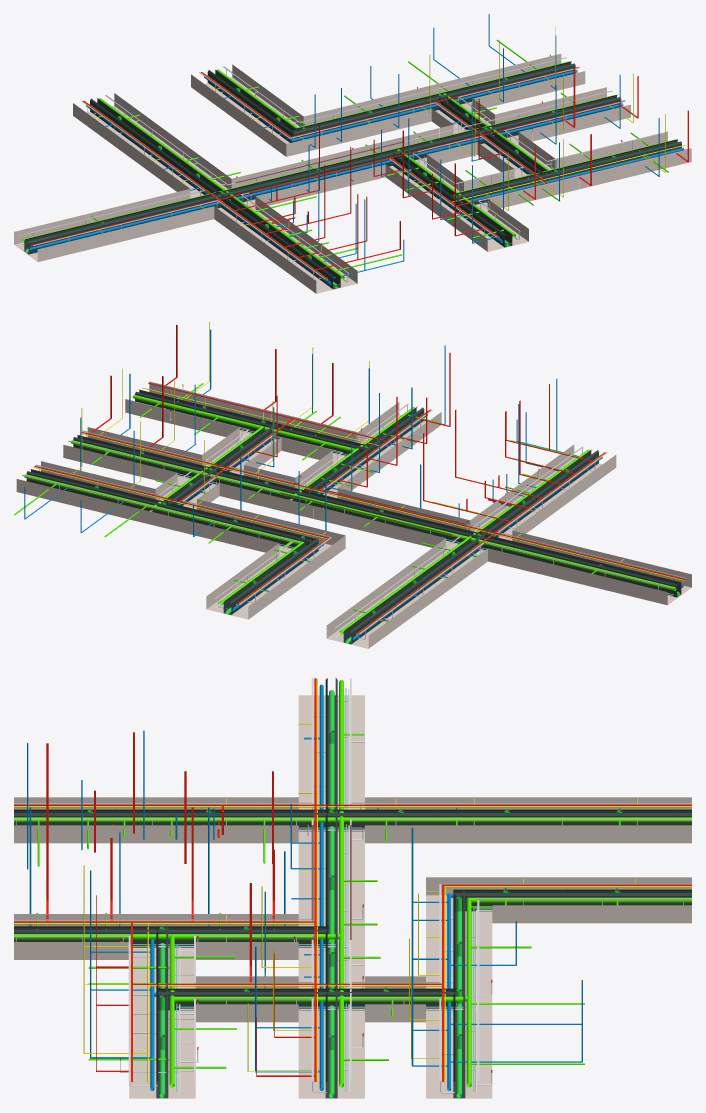
File: Pipe_Lines 1.fbx
3 views of the same model, one above another, from view 1: azimuth 30°, elevation 25°; view 2: azimuth 150°, elevation 25°; view 3: azimuth 270°, elevation 25° (orthographic). The views are drawn at different scales.
Visible parts, largest first — view 1: Cube.003, Cube.036, Layout, Cube.061, Cube.012, Cube.048, Cube.027, Cube.024, Cube.004, Cube.039, Cube.018, Cube.038 (+30 smaller); view 2: Cube.003, Cube.036, Layout, Cube.012, Cube.048, Cube.061, Cube.027, Cube.024, Cube.018, Cube.039, Cube.004, Pit (+28 smaller); view 3: Cube.036, Cube.061, Cube.003, Cube.039, Cube.018, Cube.038, Cube.021, Cube.062, Layout, Cube.012, Cube.048, Cube.027 (+33 smaller).
Boxes of the visible parts, x1,y1,x2,y2 form: Cube.003: (14, 189, 214, 261); Cube.036: (214, 196, 357, 293); Layout: (231, 147, 385, 208); Cube.061: (385, 154, 528, 251); Cube.012: (448, 54, 585, 110); Cube.048: (555, 131, 691, 189); Cube.027: (508, 87, 630, 141); Cube.024: (312, 91, 431, 144); Cube.004: (24, 196, 204, 254); Cube.039: (73, 93, 169, 155); Cube.018: (191, 64, 287, 126); Cube.038: (221, 193, 340, 289); Cube.003: (488, 530, 691, 605); Cube.036: (470, 444, 616, 540); Layout: (313, 488, 470, 550); Cube.012: (16, 461, 155, 519); Cube.048: (125, 381, 263, 439); Cube.061: (295, 402, 441, 498); Cube.027: (63, 427, 188, 481); Cube.024: (172, 499, 294, 552); Cube.018: (206, 555, 304, 619); Cube.039: (326, 584, 424, 648); Cube.004: (498, 538, 681, 597); Pit: (285, 486, 461, 542); Cube.036: (14, 797, 298, 843); Cube.061: (14, 914, 298, 959); Cube.003: (298, 695, 364, 809); Cube.039: (538, 797, 691, 843); Cube.018: (538, 877, 691, 923); Cube.038: (14, 809, 328, 831); Cube.021: (410, 797, 538, 843); Cube.062: (14, 926, 328, 947); Layout: (298, 843, 364, 931); Cube.012: (426, 1022, 492, 1098); Cube.048: (129, 1022, 195, 1098); Cube.027: (298, 1031, 364, 1098).
Bounding box in the file's own units: 27233 × 3707 × 19335.
